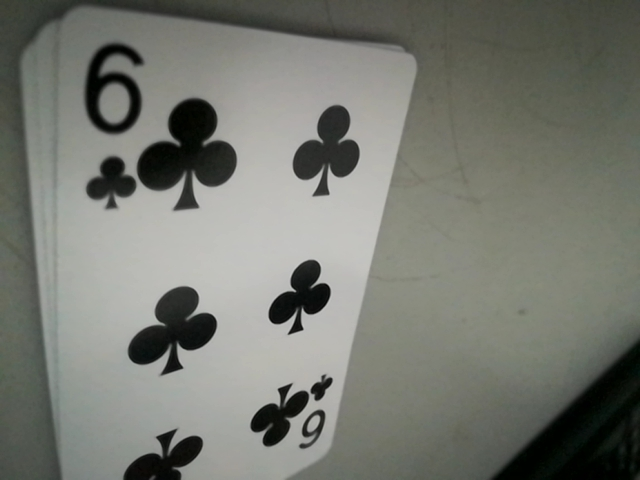mh 6: (72, 28, 160, 203), (279, 375, 332, 455)
